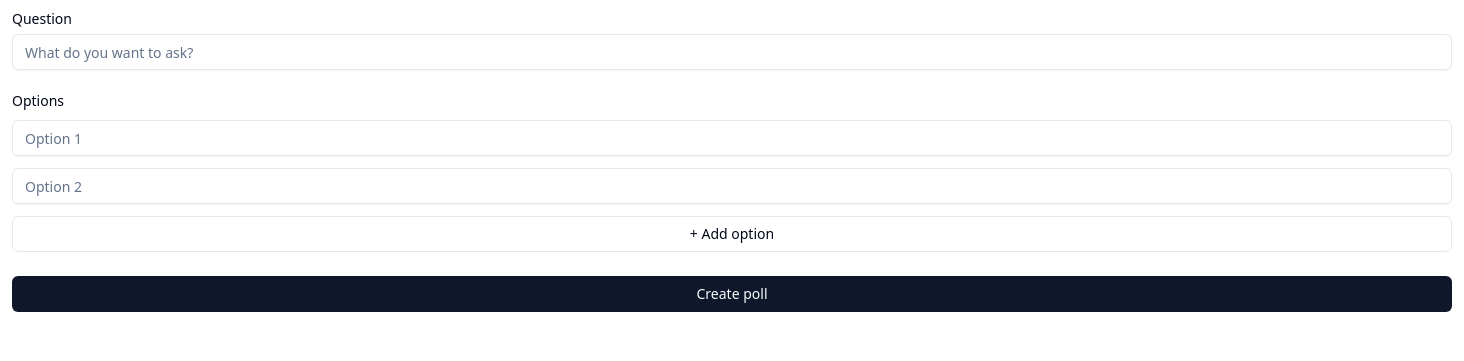
Test case: PollForm › validation › shows error when an option is empty
Type "My question?" into the field labelled "Question".
click(732, 52); type("My question?")  # box [12,34,1452,70]
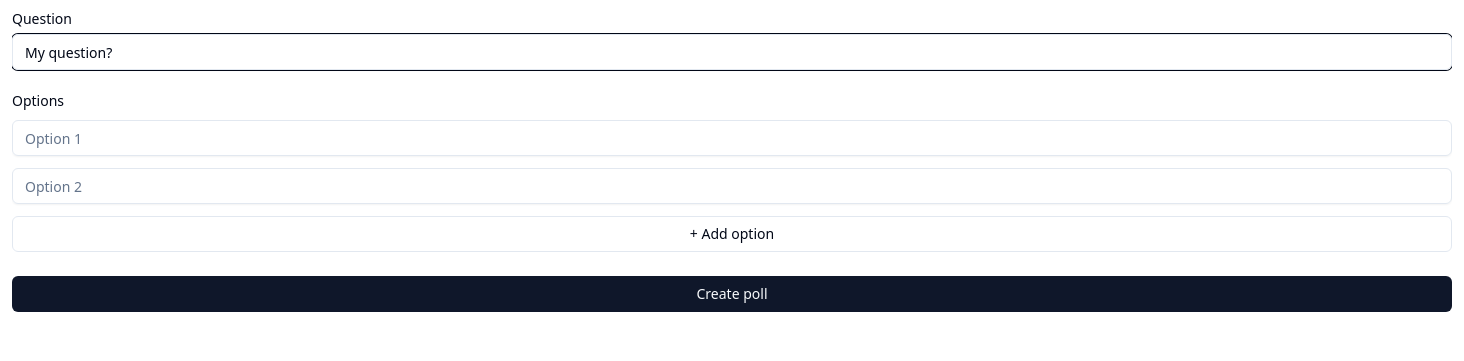
Submit the form "Question Options + Add option Create poll"
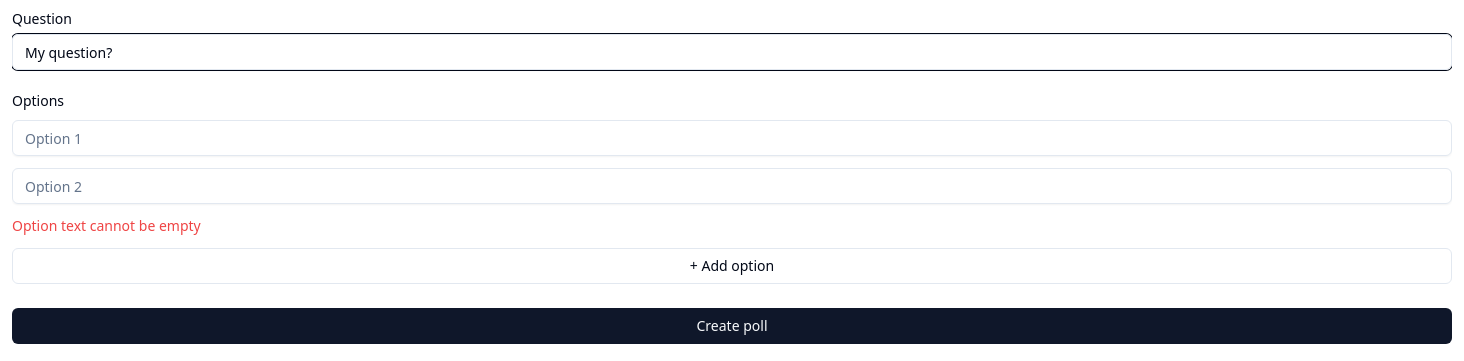
Expected: the text "Option text cannot be empty" is shown, [12,216,201,235]
